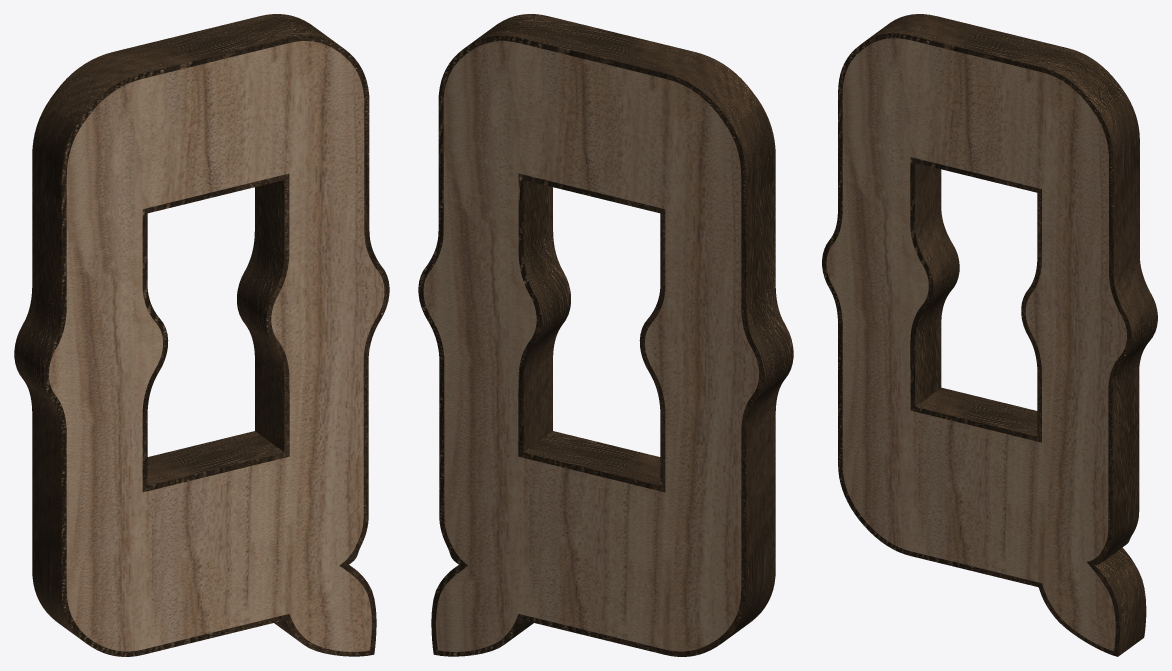
The picture shows the model from 3 angles, left to right: view 1: azimuth 30°, elevation 25°; view 2: azimuth 150°, elevation 25°; view 3: azimuth 330°, elevation 25°; orthographic projection. The views are drawn at different scales.
Parts seen in each view (by area): view 1: Q, Q_outline; view 2: Q, Q_outline; view 3: Q, Q_outline.
Part boxes in pixels (<box>): Q: <box>49,41,384,651</box>; Q_outline: <box>14,14,389,656</box>; Q: <box>423,41,758,651</box>; Q_outline: <box>418,14,793,656</box>; Q: <box>826,38,1126,650</box>; Q_outline: <box>822,14,1157,656</box>.
Size of the model in its own units: 67.8 by 119 by 10.
Materials: 2 (2 with a texture image).
